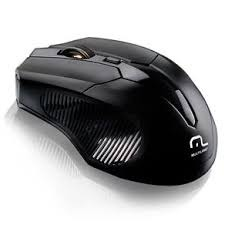mouse: (8, 13, 221, 204)
